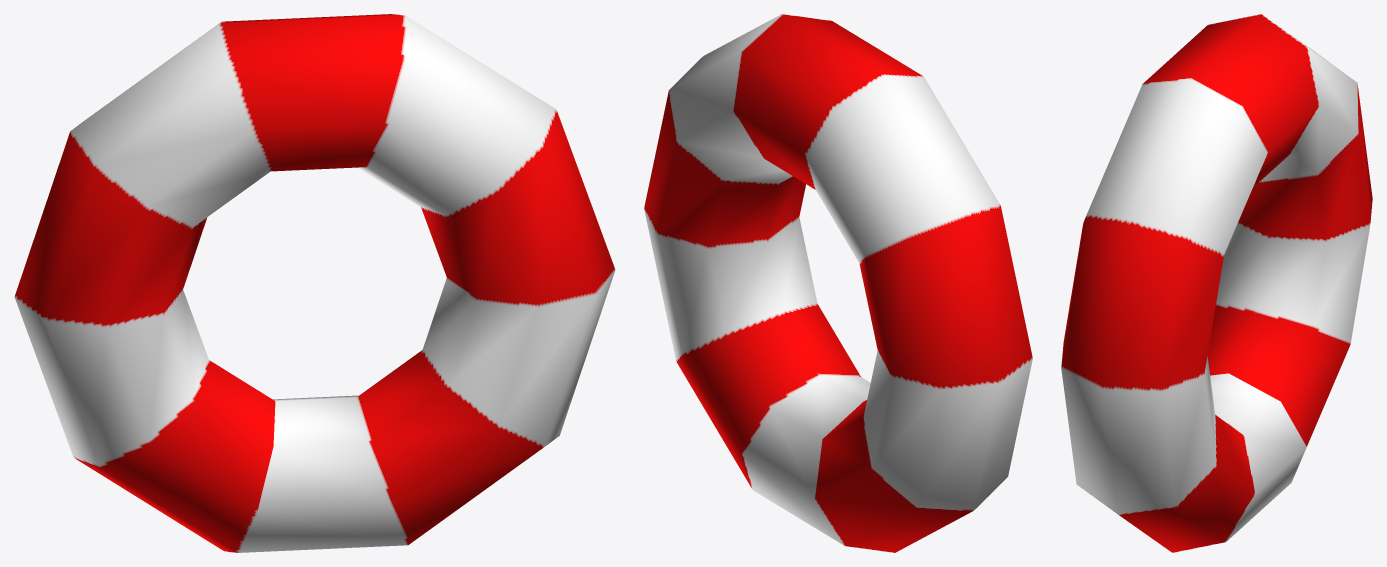
File: float.fbx
3 renders of one model, left to right at view 1: azimuth 30°, elevation 25°; view 2: azimuth 150°, elevation 25°; view 3: azimuth 270°, elevation 25°, orthographic. The views are drawn at different scales.
Parts seen in each view (by area): view 1: Torus.005; view 2: Torus.005; view 3: Torus.005.
Boxes of the visible parts, x1,y1,x2,y2 form: Torus.005: (14, 14, 615, 552); Torus.005: (644, 14, 1032, 552); Torus.005: (1061, 14, 1372, 552).
Bounding box in the file's own units: 283 × 294 × 174.
Materials: 1 (1 with a texture image).
